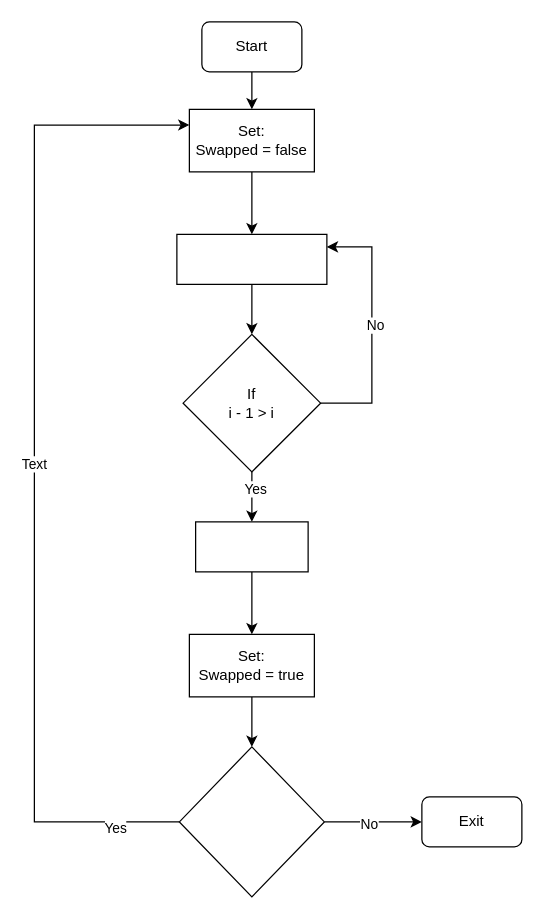
This 544x919 diagram has some shape labels left out. The shapes that lost their labels are listed below. From the top down, each one's box as (x1, y1, x2, y2) in pixels, then its label:
(176, 233, 327, 284): Check values in array
(194, 521, 308, 572): Swap
(178, 746, 324, 897): Check: Did any swaps happen?
